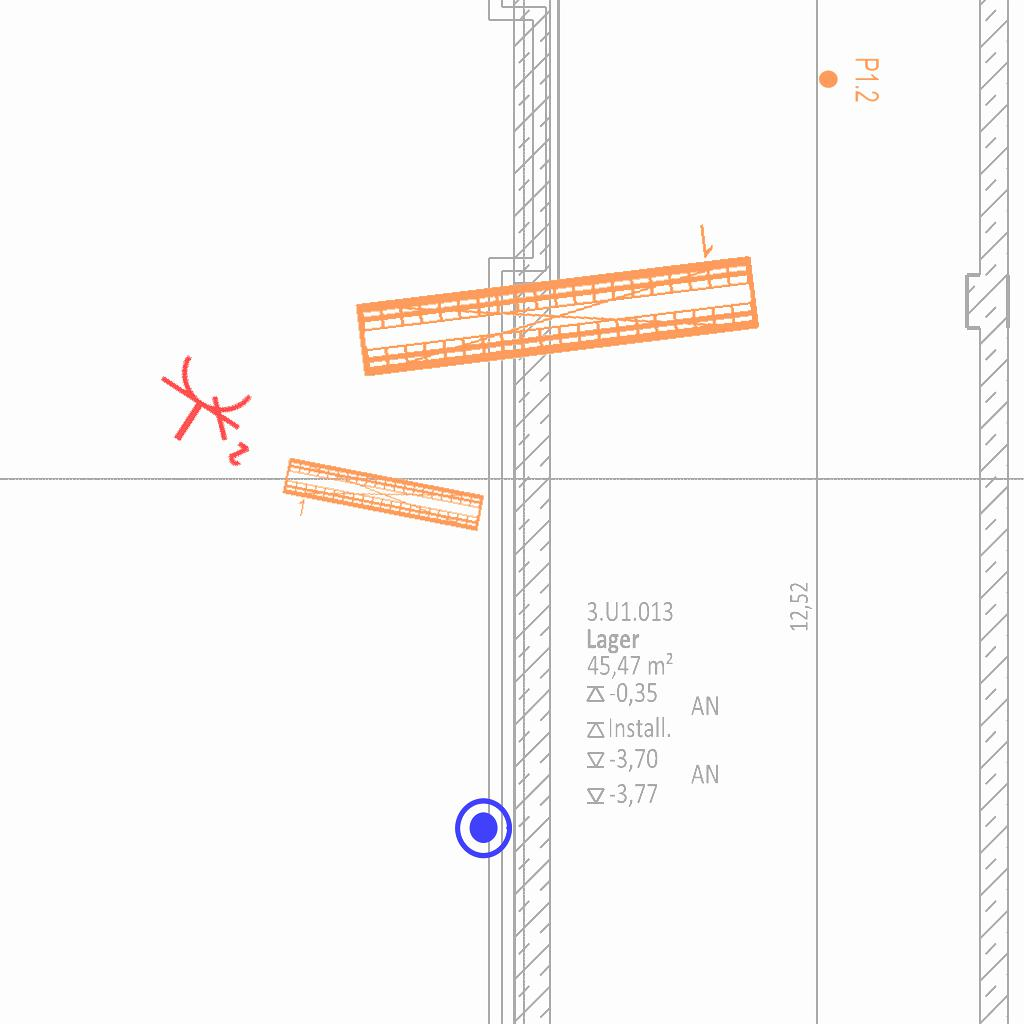Buero_Pendelleuchten_LED: (341, 208, 768, 388), (274, 451, 490, 556)
Downlight_LED_Einbauleuchten_Flur: (817, 57, 881, 103)
Schukosteckdose_mehrfach: (130, 343, 281, 483)
Taster: (453, 795, 519, 861)
